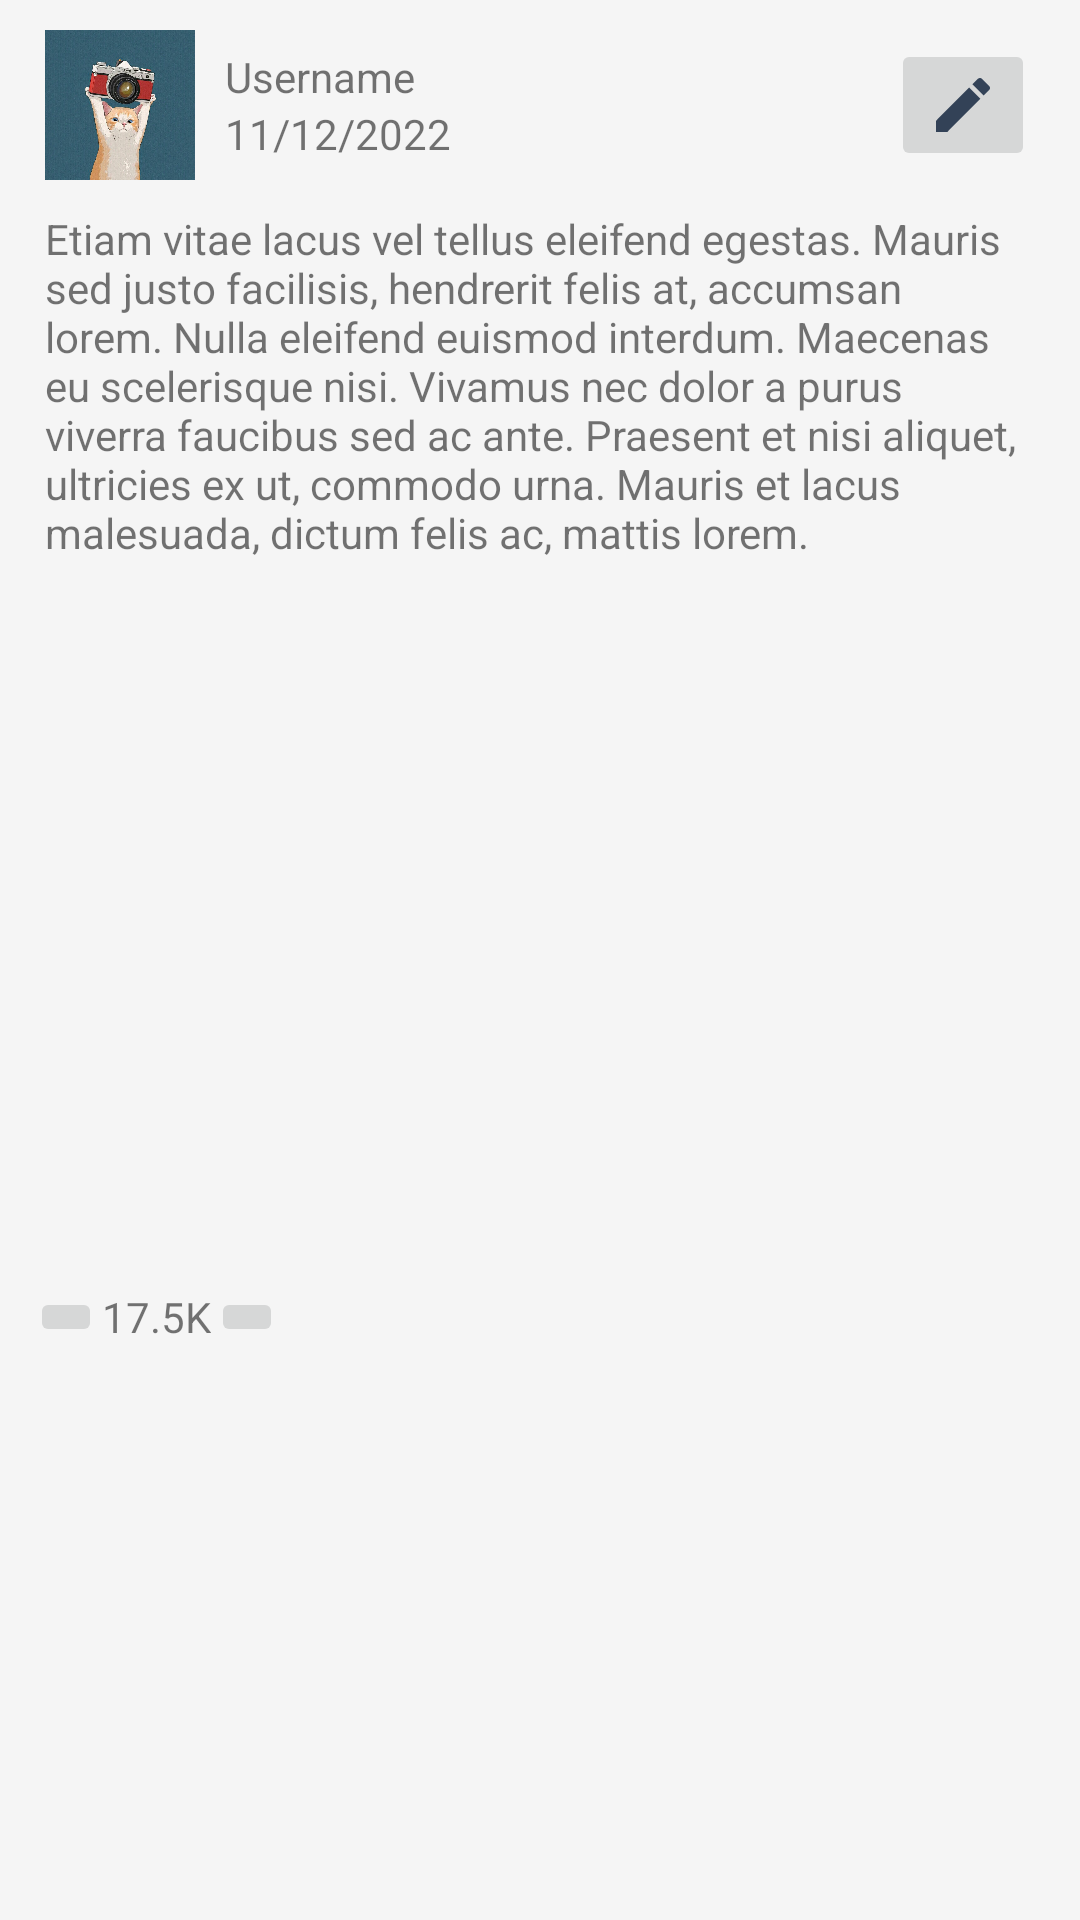

Named icons in this screenshot (1080×1920) and their bounding boxes, (x1, y1, x2, y2):
cat user: (45, 30, 195, 180)
edit: (903, 57, 1023, 153)
